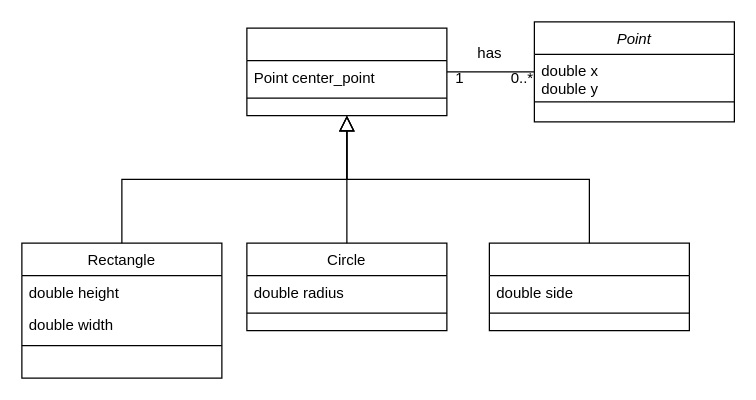
Image size: 756x400. Some labels were removed from this diagram. The shapes that lost their labels are listed below. From the top down, each one's box as (x1, y1, x2, y2) in pixels, then its label:
(246, 27, 447, 116): TwoDShape
(488, 242, 689, 331): Square
